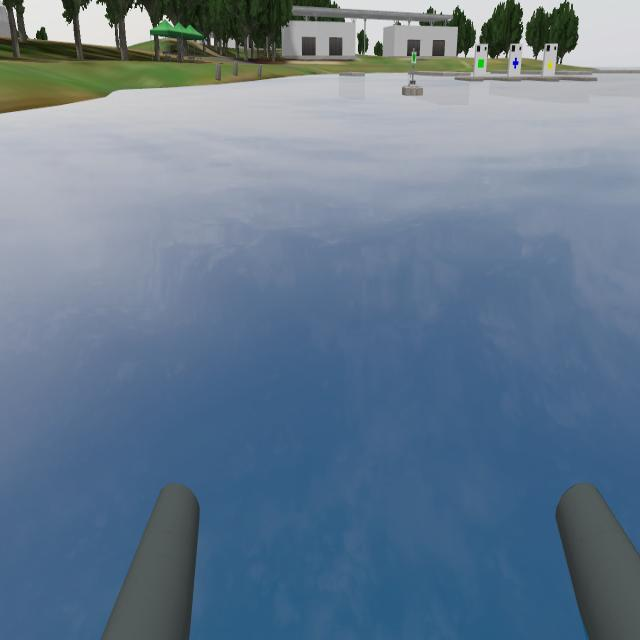green_pole: (406, 45, 420, 67)
